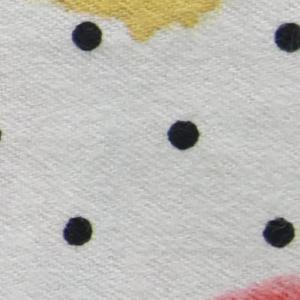Oil Stain: (49, 1, 227, 48)
Stain: (203, 269, 300, 300)
